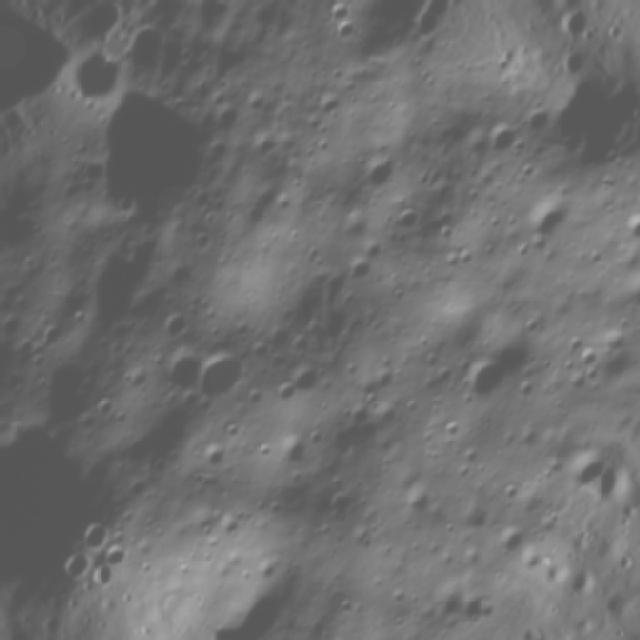crater: (58, 68, 234, 248), (322, 0, 434, 78), (183, 336, 260, 419), (111, 14, 178, 81), (148, 340, 212, 408), (514, 184, 578, 251), (447, 350, 511, 416), (348, 139, 408, 203), (552, 433, 611, 498), (80, 53, 137, 119), (468, 108, 526, 168), (286, 353, 339, 404), (177, 0, 241, 40), (514, 90, 563, 142), (70, 509, 119, 558), (382, 200, 430, 248), (151, 302, 195, 348), (404, 6, 450, 48), (101, 536, 144, 578), (339, 252, 379, 294), (612, 197, 640, 252), (263, 371, 302, 409), (355, 234, 394, 272), (0, 354, 12, 417)
